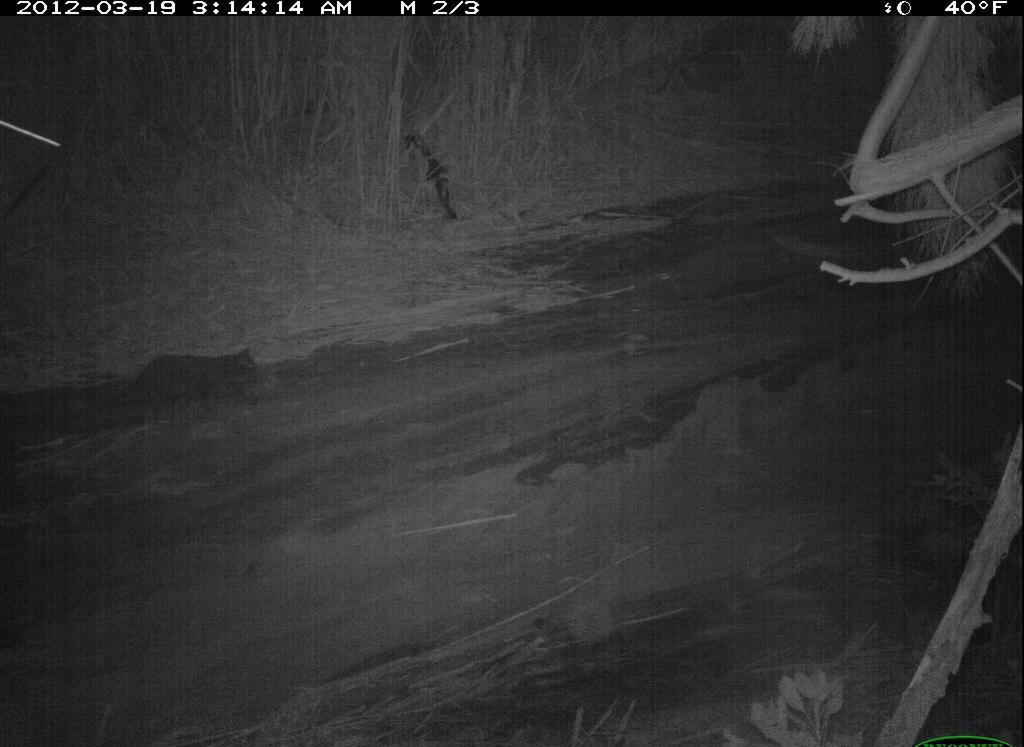cat: (118, 336, 285, 425)
